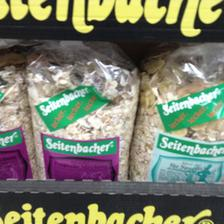Cerealien: (28, 53, 138, 183), (131, 56, 223, 184)
